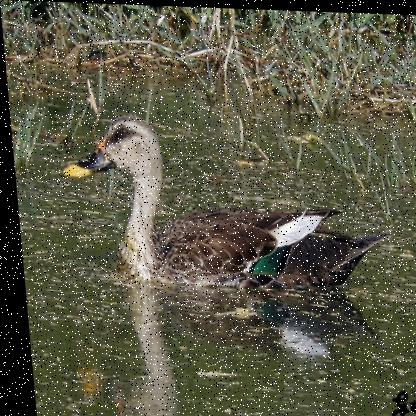Burung: (54, 113, 393, 291)
